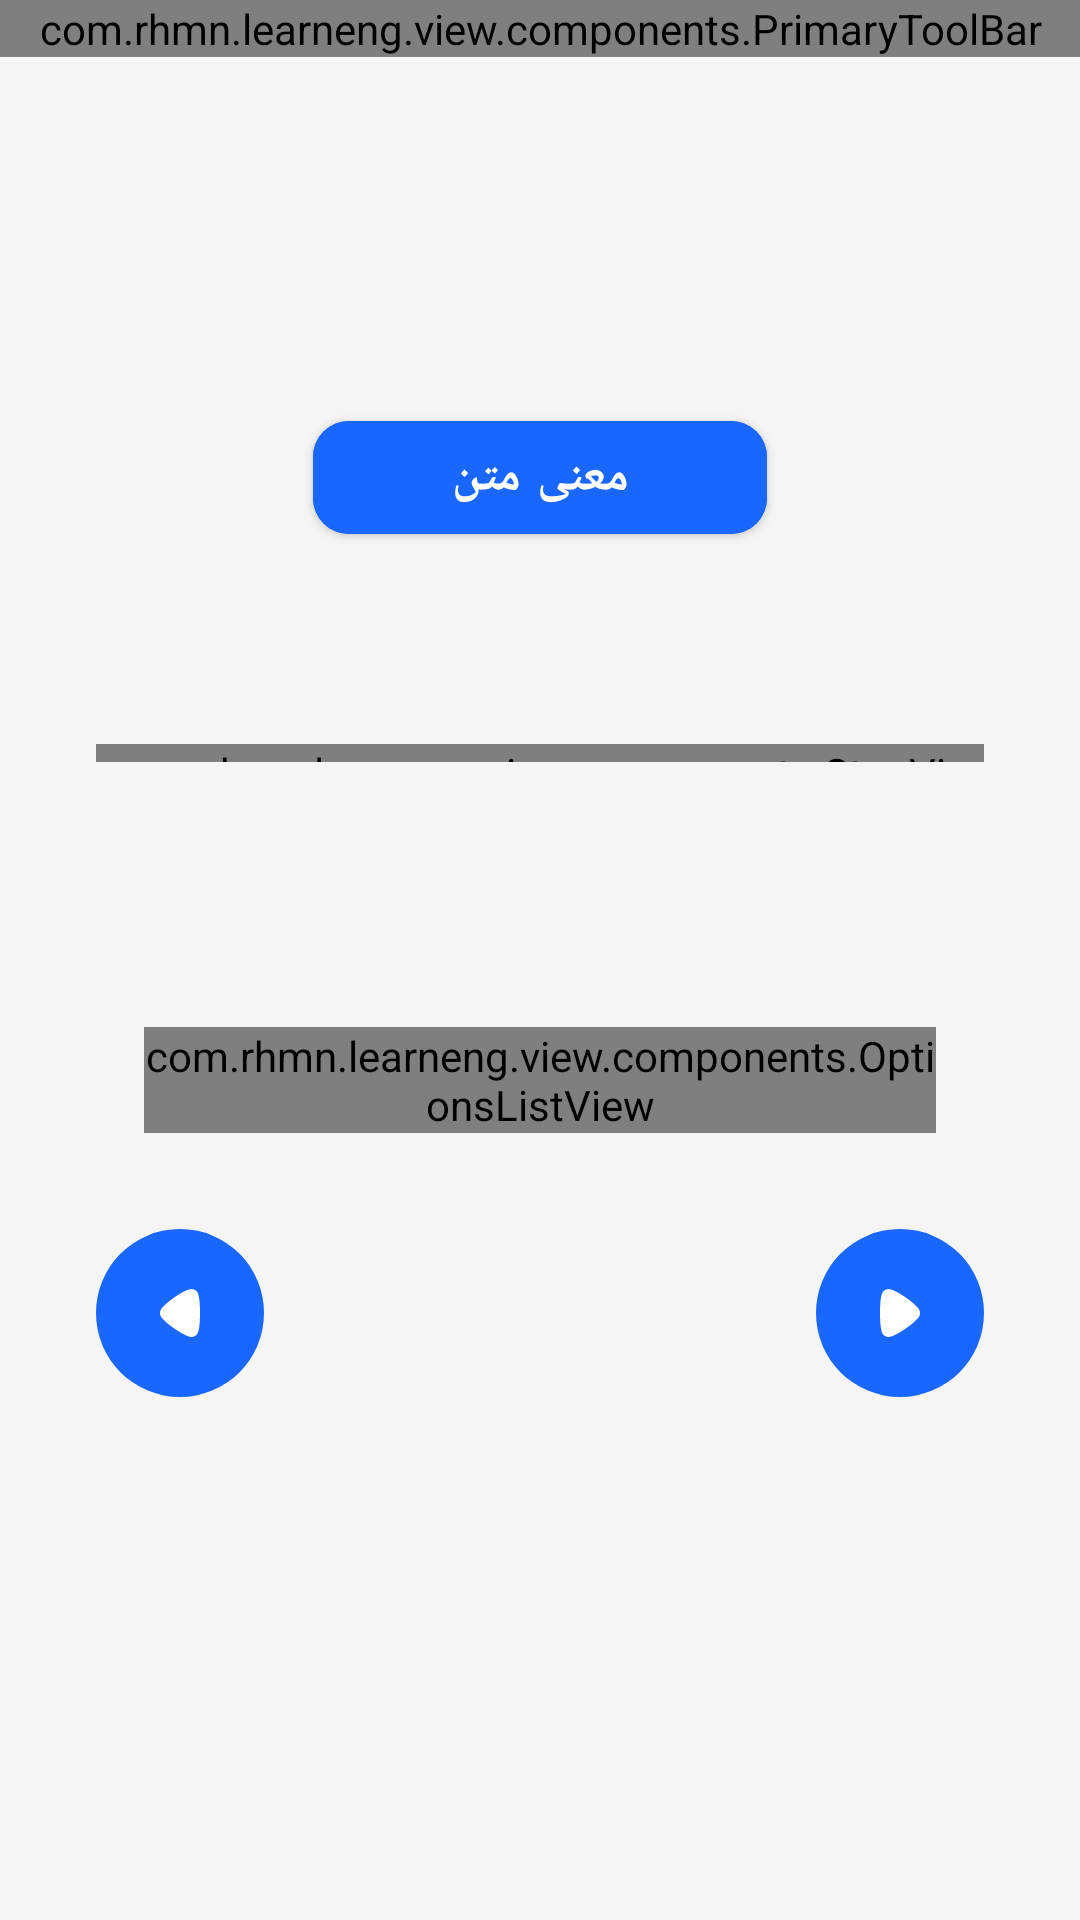

Where to tap for icons on this 1080w x 1920h app screen, as [x,y]:
arrow left: [180,1313]
arrow right: [900,1313]
